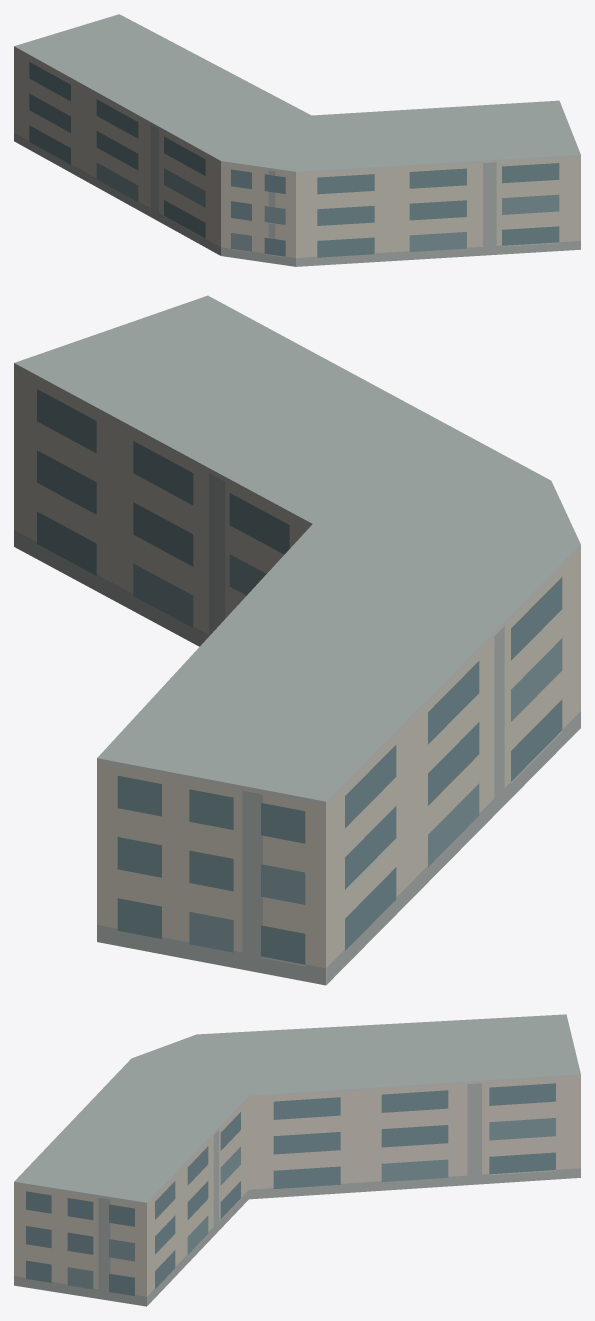
Rendered from residential-55ba7cdf-01d9-4f2b-a8e9-a411f420e082.glb.
3 views of the same model, one above another, from view 1: azimuth 30°, elevation 25°; view 2: azimuth 150°, elevation 25°; view 3: azimuth 270°, elevation 25° (orthographic). The views are drawn at different scales.
Visible parts, largest first — view 1: residential-55ba7cdf-01d9-4f2b-a8e9-a411f420e082.tmp; view 2: residential-55ba7cdf-01d9-4f2b-a8e9-a411f420e082.tmp; view 3: residential-55ba7cdf-01d9-4f2b-a8e9-a411f420e082.tmp.
Boxes of the visible parts, x1,y1,x2,y2 form: residential-55ba7cdf-01d9-4f2b-a8e9-a411f420e082.tmp: (14, 14, 580, 266); residential-55ba7cdf-01d9-4f2b-a8e9-a411f420e082.tmp: (14, 295, 580, 985); residential-55ba7cdf-01d9-4f2b-a8e9-a411f420e082.tmp: (14, 1014, 580, 1306).
Bounding box in the file's own units: 35.62 × 9.15 × 45.29.
